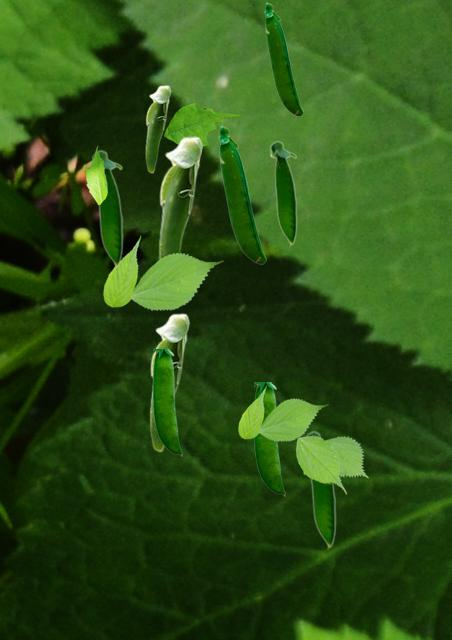pea: (218, 125, 265, 263), (149, 313, 189, 451), (158, 136, 202, 259), (264, 2, 302, 115), (91, 149, 122, 268), (305, 430, 335, 549), (254, 382, 284, 495), (153, 349, 181, 455), (269, 140, 296, 246), (145, 85, 170, 172)
